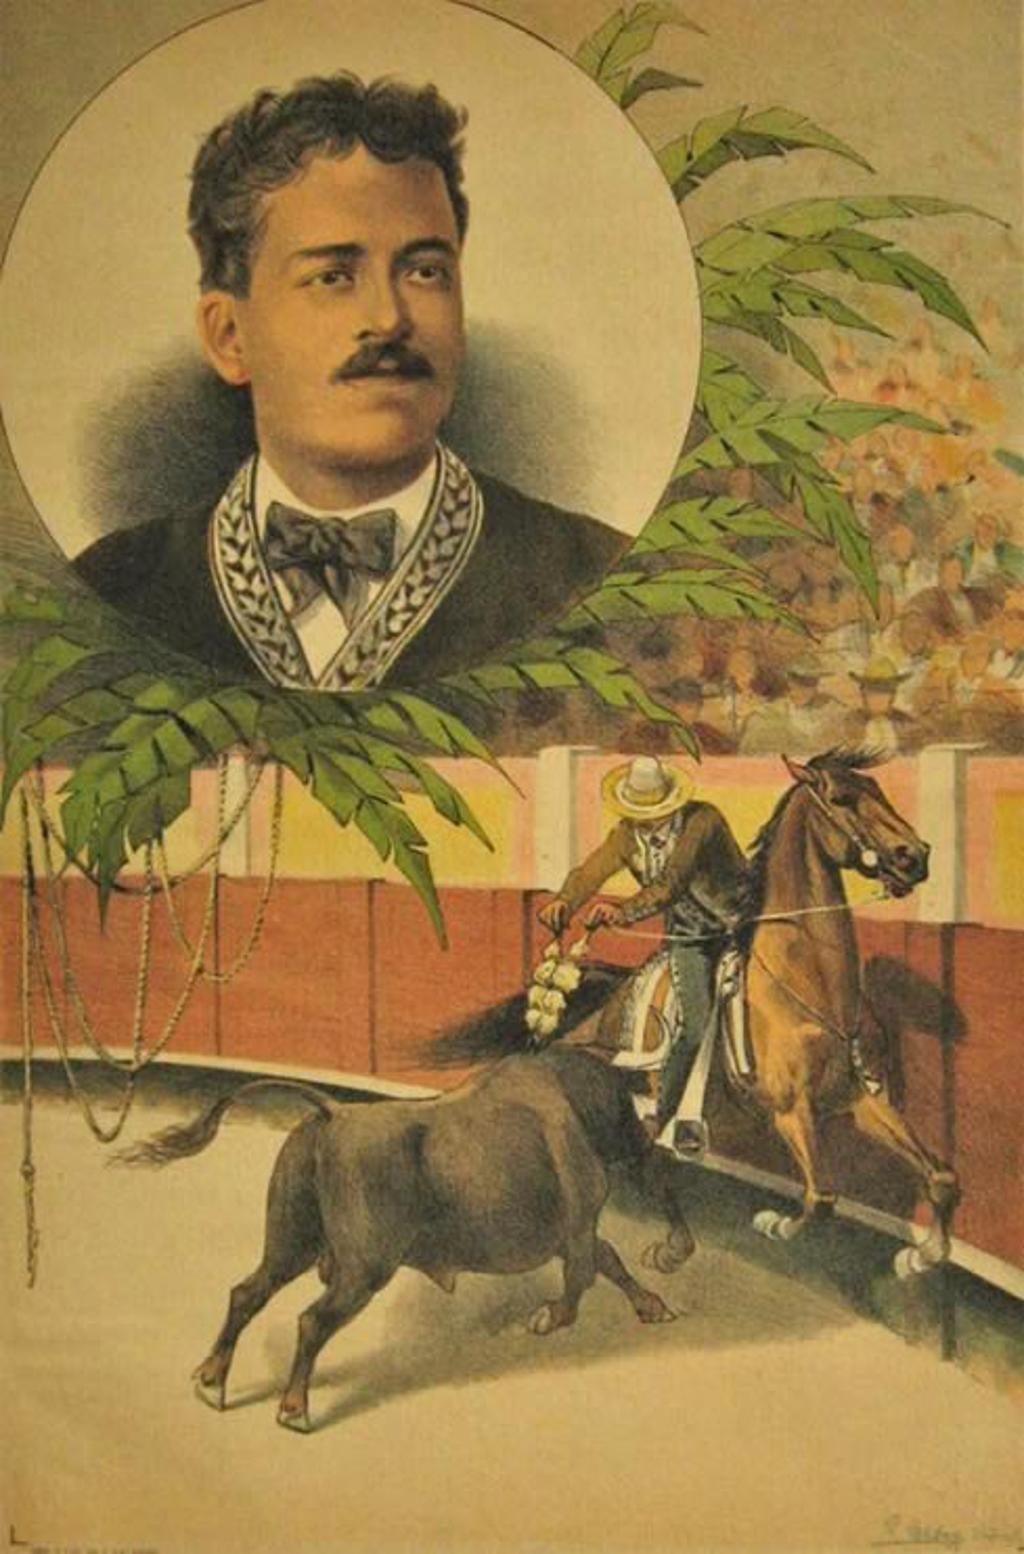face: (247, 144, 460, 466)
